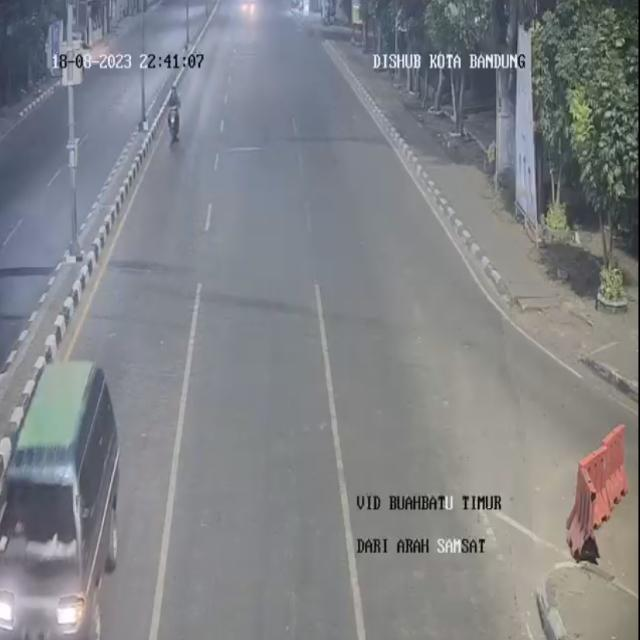cars: (0, 358, 130, 639)
motorcycle: (166, 84, 182, 144)
